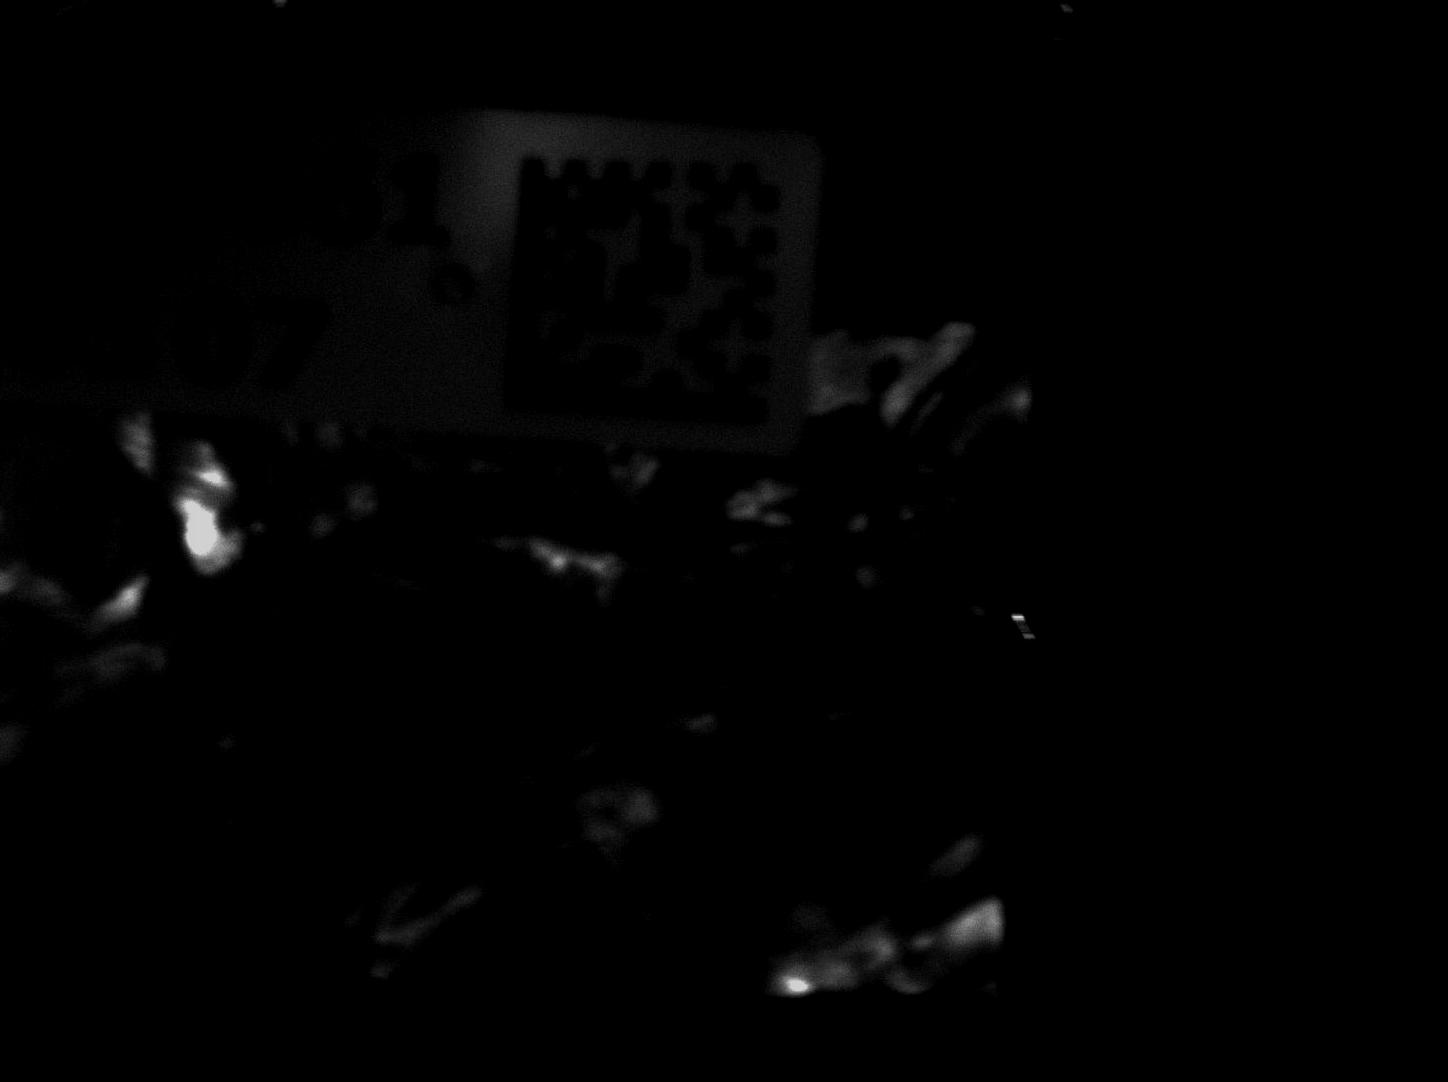data matrix: (492, 127, 808, 450)
